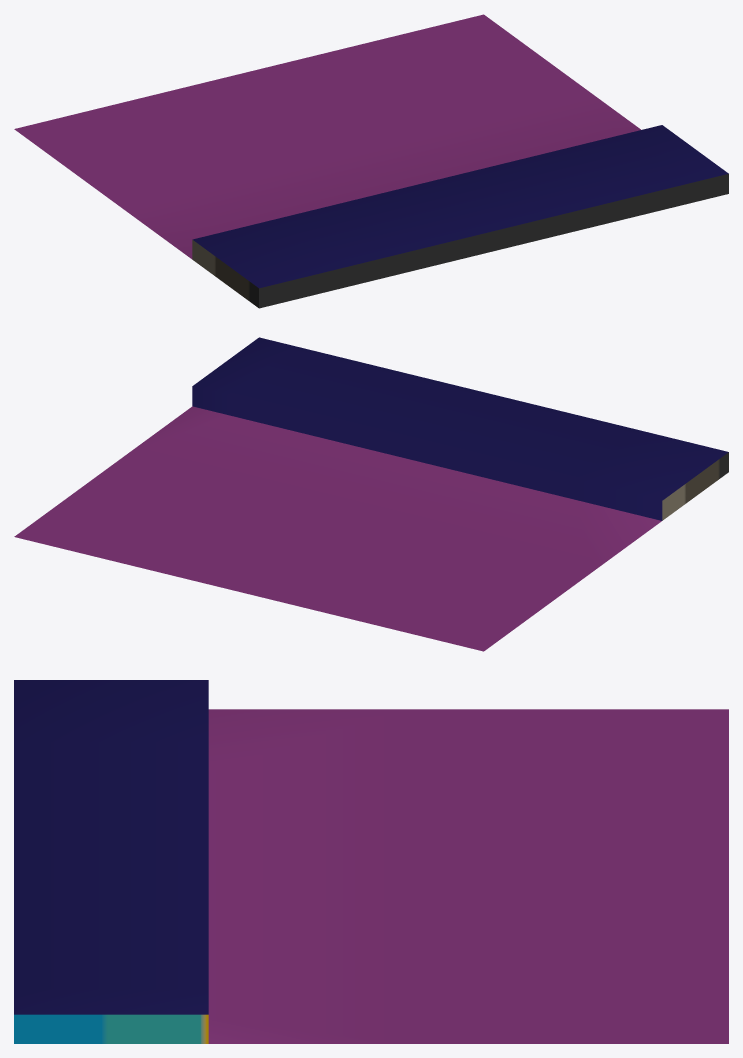
File: tile_1_0_0.gltf
3 renders of one model, top to bottom at view 1: azimuth 30°, elevation 25°; view 2: azimuth 150°, elevation 25°; view 3: azimuth 270°, elevation 25°, orthographic. The views are drawn at different scales.
Parts seen in each view (by area): view 1: Plane; view 2: Plane; view 3: Plane.
Boxes of the visible parts, x1=… form: Plane: x1=14, y1=14, x2=728, y2=308; Plane: x1=14, y1=337, x2=728, y2=651; Plane: x1=14, y1=680, x2=728, y2=1043.
Size of the model in its own units: 8 by 0.3275 by 7.23.
Materials: 1 (1 with a texture image).
